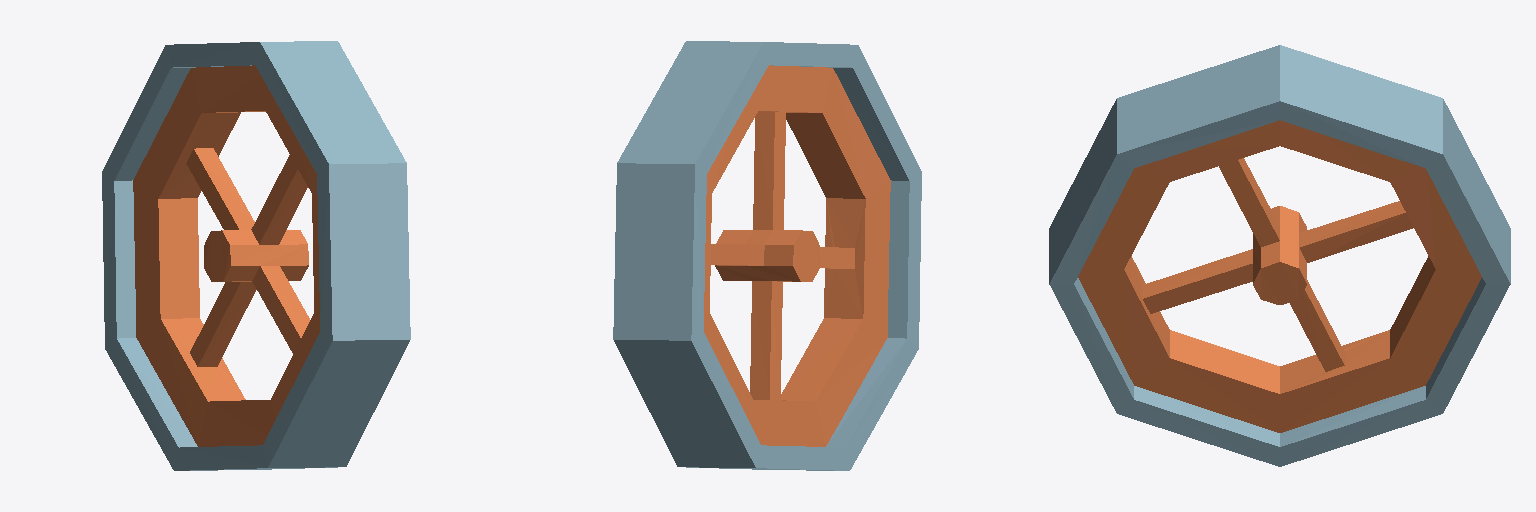
The model's file is wheel.obj.
3 renders of one model, left to right at view 1: azimuth 30°, elevation 25°; view 2: azimuth 150°, elevation 25°; view 3: azimuth 270°, elevation 25°, orthographic.
Parts seen in each view (by area): view 1: wheel; view 2: wheel; view 3: wheel.
Part boxes in pixels (bbox=[...]): wheel: bbox=[102, 41, 410, 470]; wheel: bbox=[613, 41, 921, 470]; wheel: bbox=[1049, 45, 1510, 466].
Size of the model in its own units: 0.208 by 0.516 by 0.506.